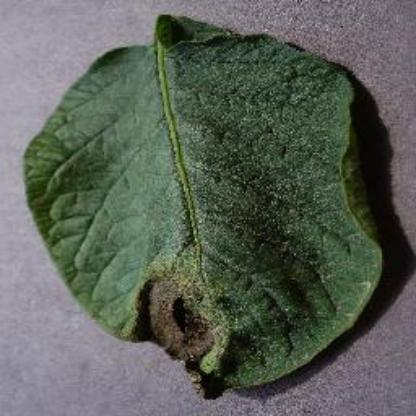Late-Blight: (18, 9, 400, 404)
